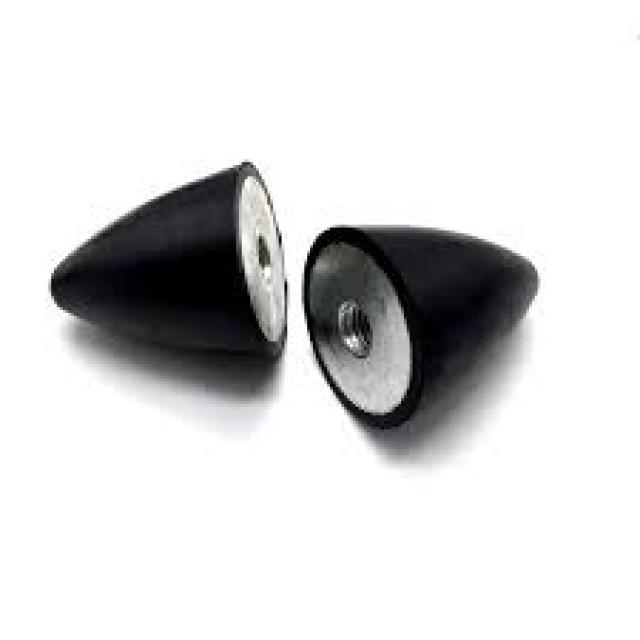Turning: (33, 153, 296, 422), (315, 187, 569, 449)
